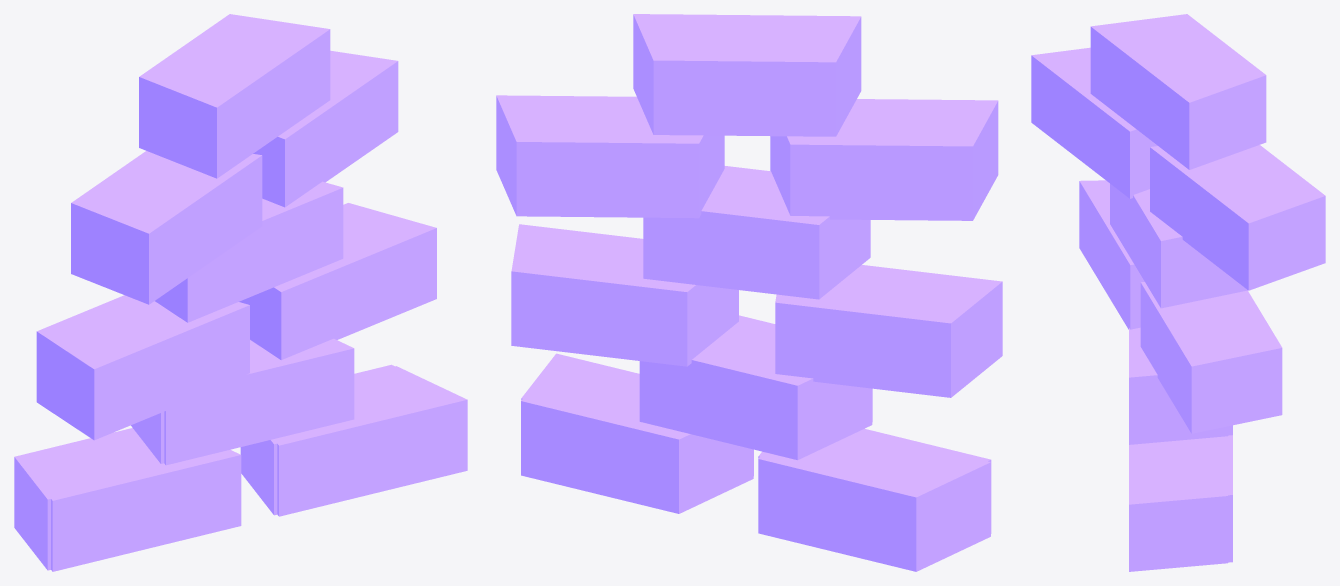
The model's file is Ingot_StarlightAlloy.fbx.
3 views of the same model, side by side, from view 1: azimuth 30°, elevation 25°; view 2: azimuth 150°, elevation 25°; view 3: azimuth 270°, elevation 25° (orthographic). The views are drawn at different scales.
Visible parts, largest first — view 1: Ingot_StarlightAlloy__Stack, Ingot_StarlightAlloy; view 2: Ingot_StarlightAlloy__Stack, Ingot_StarlightAlloy; view 3: Ingot_StarlightAlloy__Stack, Ingot_StarlightAlloy.
Part boxes in pixels (x1,y1,x2,y2): Ingot_StarlightAlloy__Stack: (14, 14, 447, 570); Ingot_StarlightAlloy: (19, 338, 467, 571); Ingot_StarlightAlloy__Stack: (496, 14, 1002, 571); Ingot_StarlightAlloy: (521, 315, 991, 533); Ingot_StarlightAlloy__Stack: (1031, 14, 1325, 562); Ingot_StarlightAlloy: (1129, 328, 1227, 571).
Size of the model in its own units: 0.1113 by 0.1125 by 0.0714.
